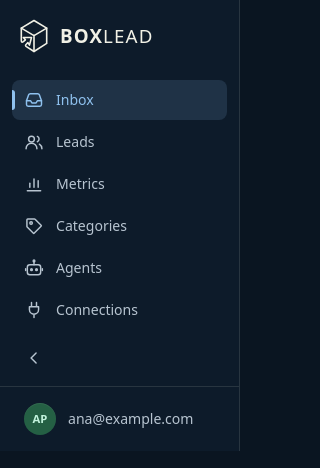
it: Sidebar in English › names the sections and the toggle in English
Expected: the link "Connections" is shown, x1=24 y1=300 x2=138 y2=320
Step 1. Click the button named "Collapse menu" → {"x": 120, "y": 358}, box x1=12 y1=338 x2=227 y2=378
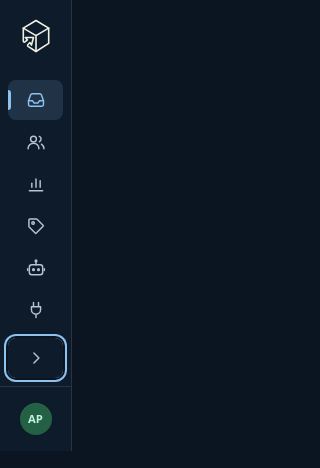
Result: the button named "Expand menu" is shown at x1=8 y1=338 x2=63 y2=378
